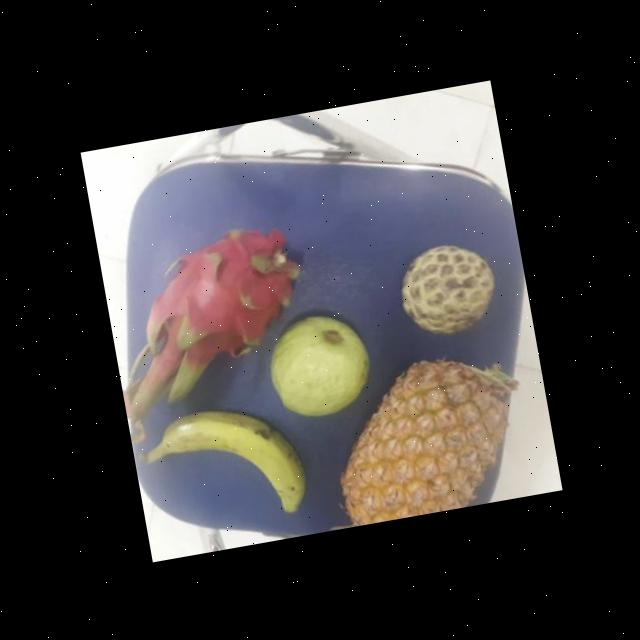Sakya fruit: (386, 237, 502, 341)
guava: (255, 304, 377, 421)
pineapple: (320, 354, 524, 526)
pitaya: (130, 216, 314, 372)
